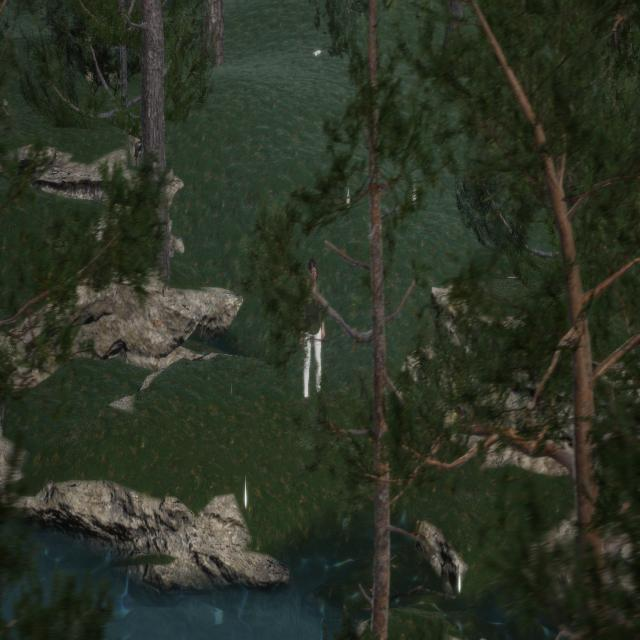Human: (294, 250, 331, 416)
